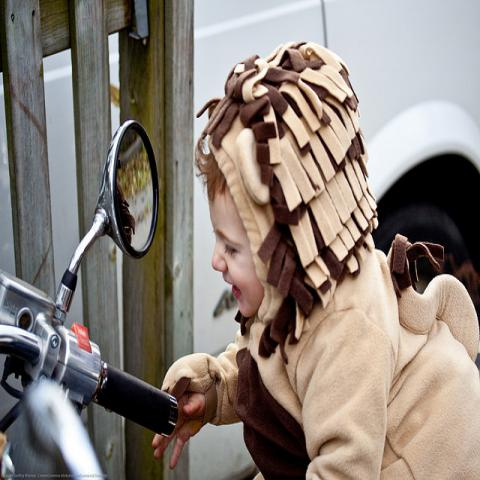motorcycle: (3, 117, 181, 474)
